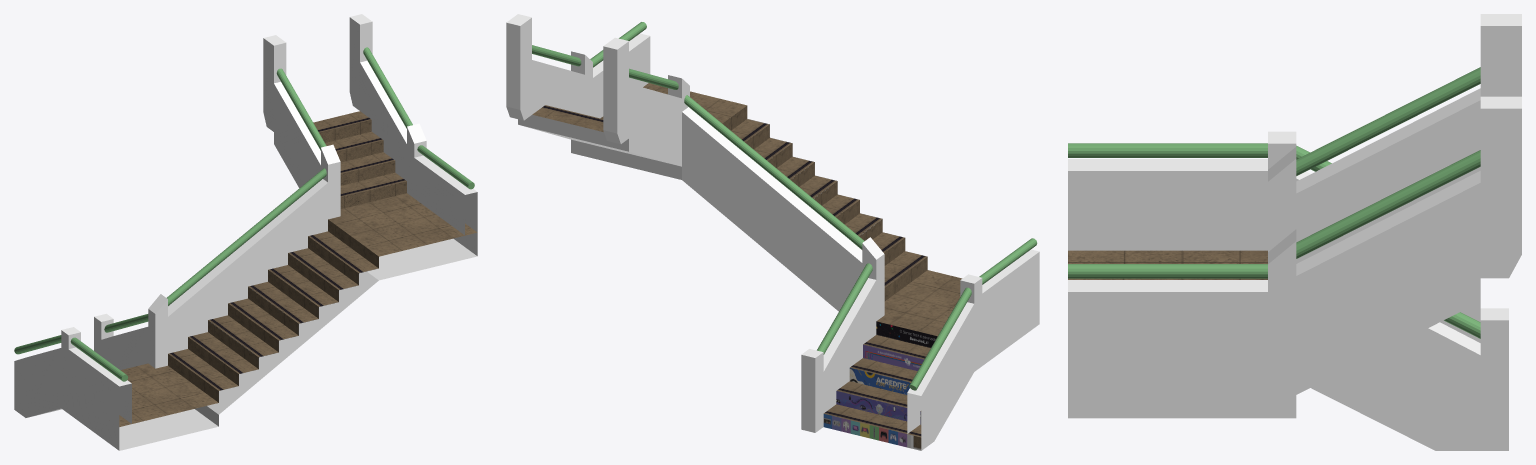
The model's file is lobby_Escada.fbx.
3 renders of one model, left to right at view 1: azimuth 30°, elevation 25°; view 2: azimuth 150°, elevation 25°; view 3: azimuth 270°, elevation 25°, orthographic. The views are drawn at different scales.
Visible parts, largest first — view 1: Plane.034; view 2: Plane.034; view 3: Plane.034.
Boxes of the visible parts, x1,y1,x2,y2 form: Plane.034: (14, 14, 477, 450); Plane.034: (506, 14, 1039, 450); Plane.034: (1068, 14, 1521, 450).
Size of the model in its own units: 675 by 542 by 377.
3 materials, 1 textured.
